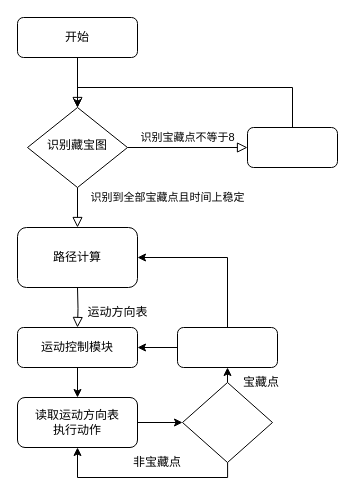
This 355x503 diagram has some shape labels left out. Each missing label, with the box of its shape:
到达宝藏点？: (182, 382, 272, 462)
识别宝藏类型 更新动作: (176, 326, 278, 368)
重新识别: (246, 126, 338, 168)
